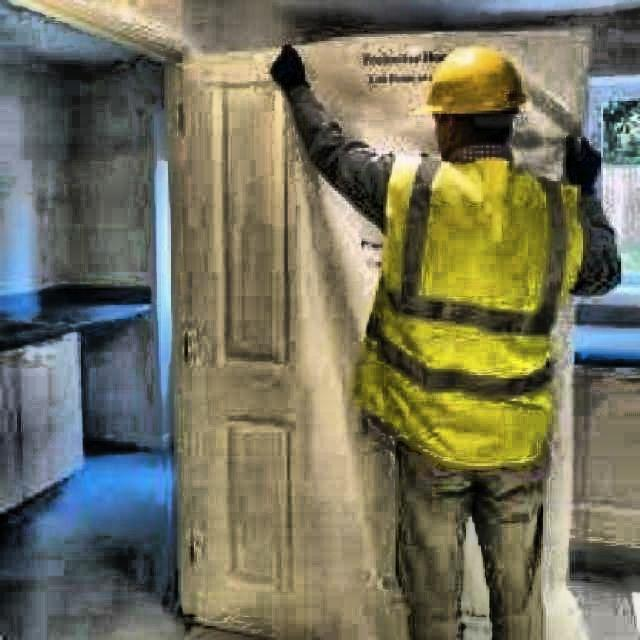safety_jacket: (359, 147, 583, 469)
